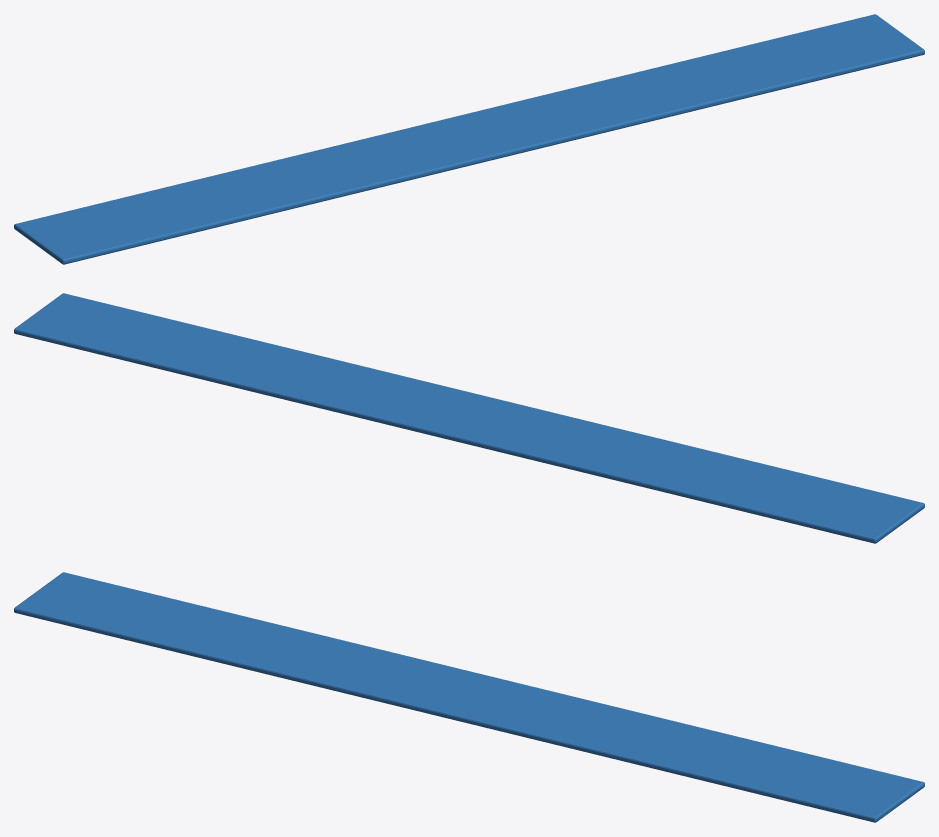
Rendered from base_med_floor_line_blue.glb.
3 renders of one model, top to bottom at view 1: azimuth 30°, elevation 25°; view 2: azimuth 150°, elevation 25°; view 3: azimuth 330°, elevation 25°, orthographic.
Visible parts, largest first — view 1: base_med_floor_line_blue; view 2: base_med_floor_line_blue; view 3: base_med_floor_line_blue.
Boxes of the visible parts, box(x1,y1,x2,y2) form: base_med_floor_line_blue: box(14, 14, 924, 264); base_med_floor_line_blue: box(14, 293, 924, 543); base_med_floor_line_blue: box(14, 572, 924, 822).
Bounding box in the file's own units: 2 × 0.012 × 0.2.
1 material, 1 textured.
